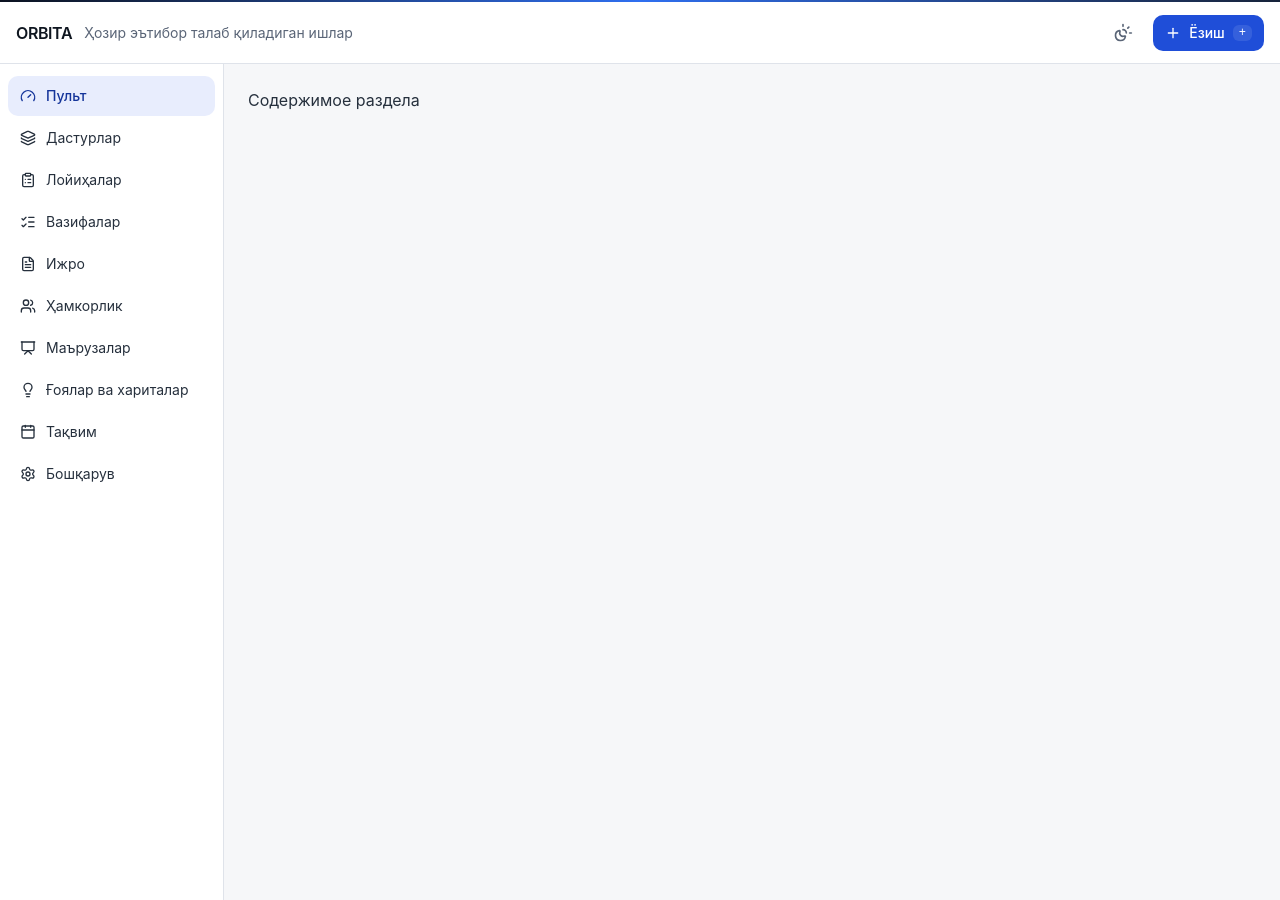
it: язык интерфейса › сохранение не прошло — язык возвращается к записанному на сервере, и это сказано
Click the button named "Мавзу:" at (1123, 32), box [1101, 10, 1145, 54]
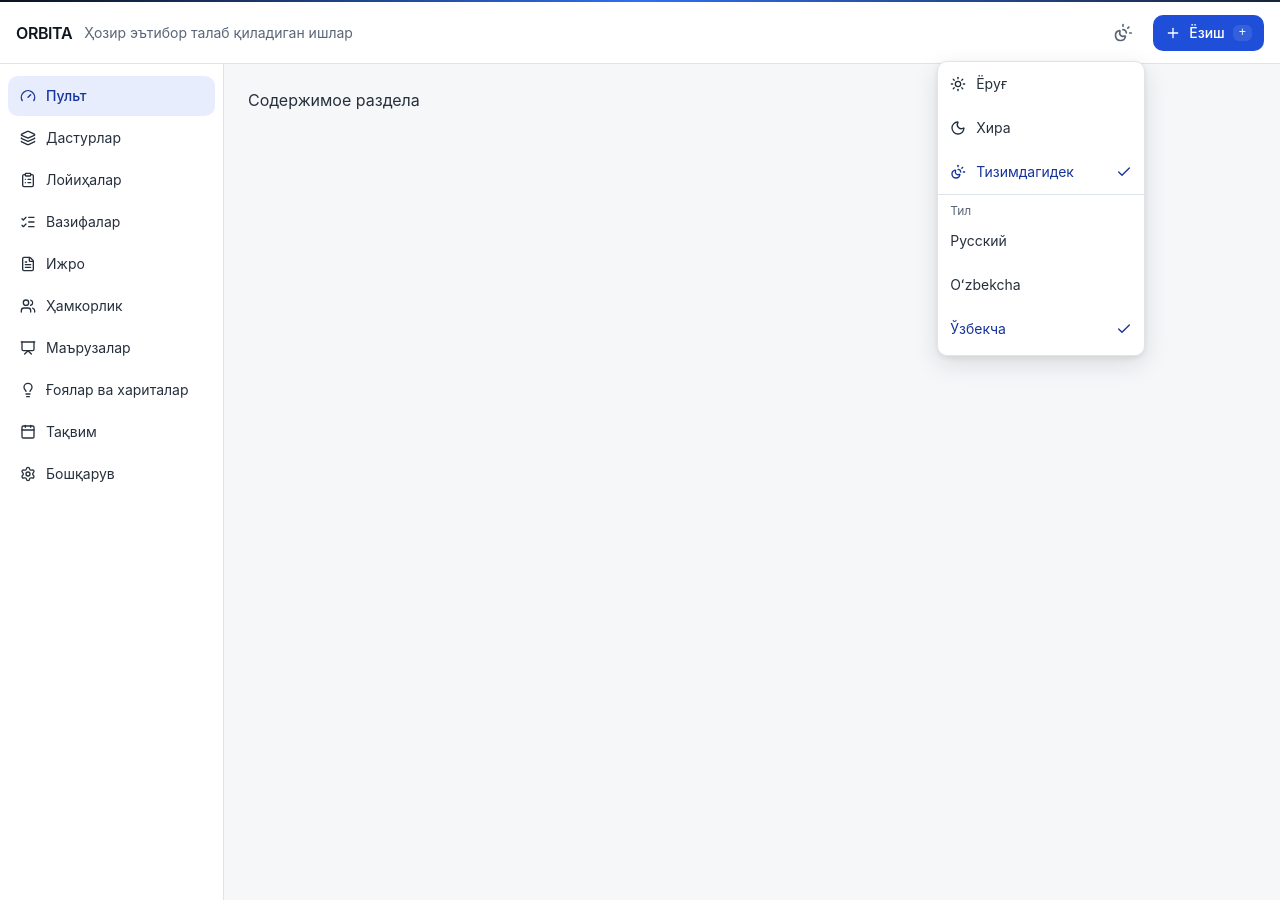
Click the menu item "Oʻzbekcha" at (1041, 284), box [938, 262, 1144, 306]
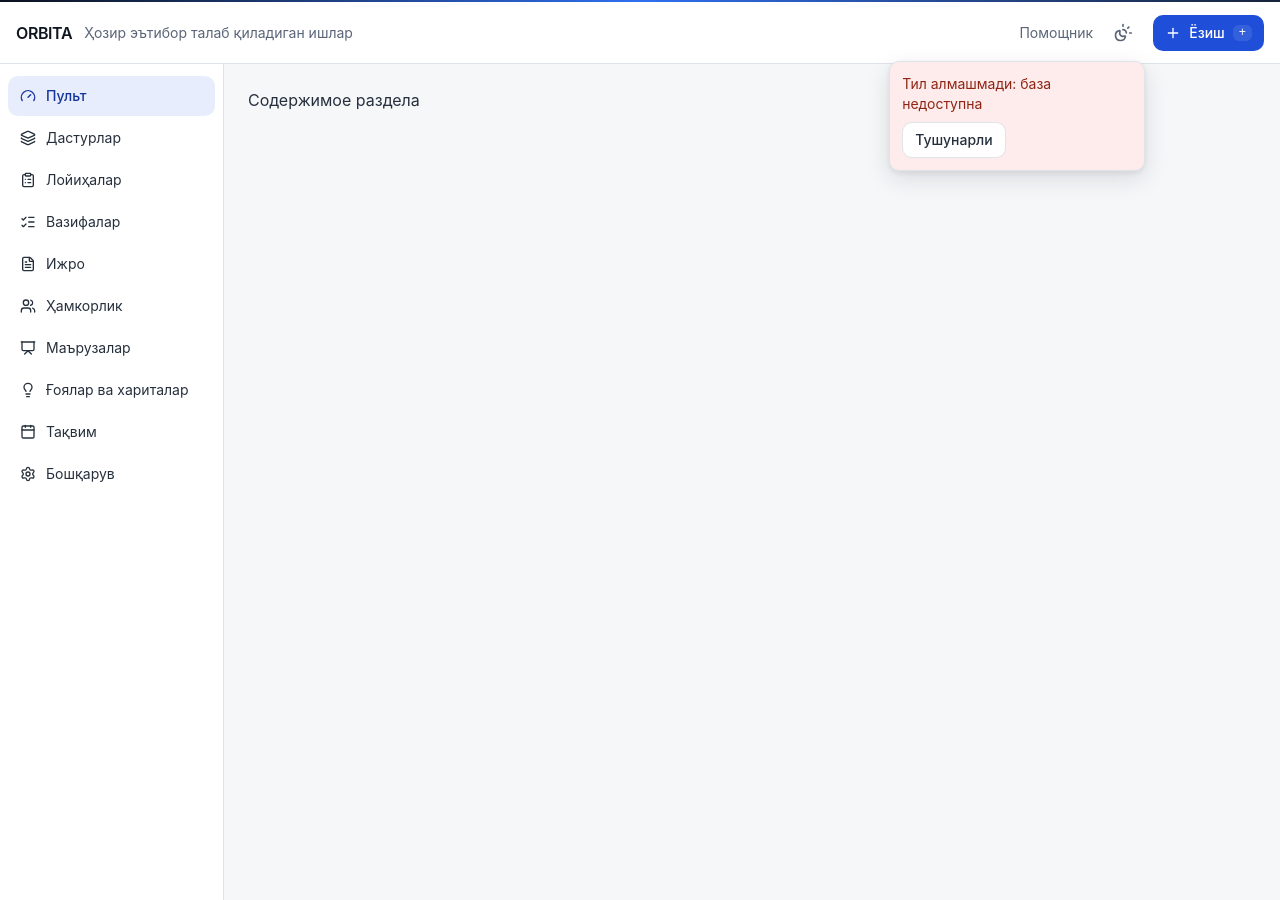
Check: the link "Лойиҳалар" is shown, box [20, 171, 122, 188]
Check: the message shows "Тил алмашмади: база недоступна", box [902, 74, 1051, 112]
Click the button "Тушунарли" at (954, 140), box [902, 122, 1006, 158]
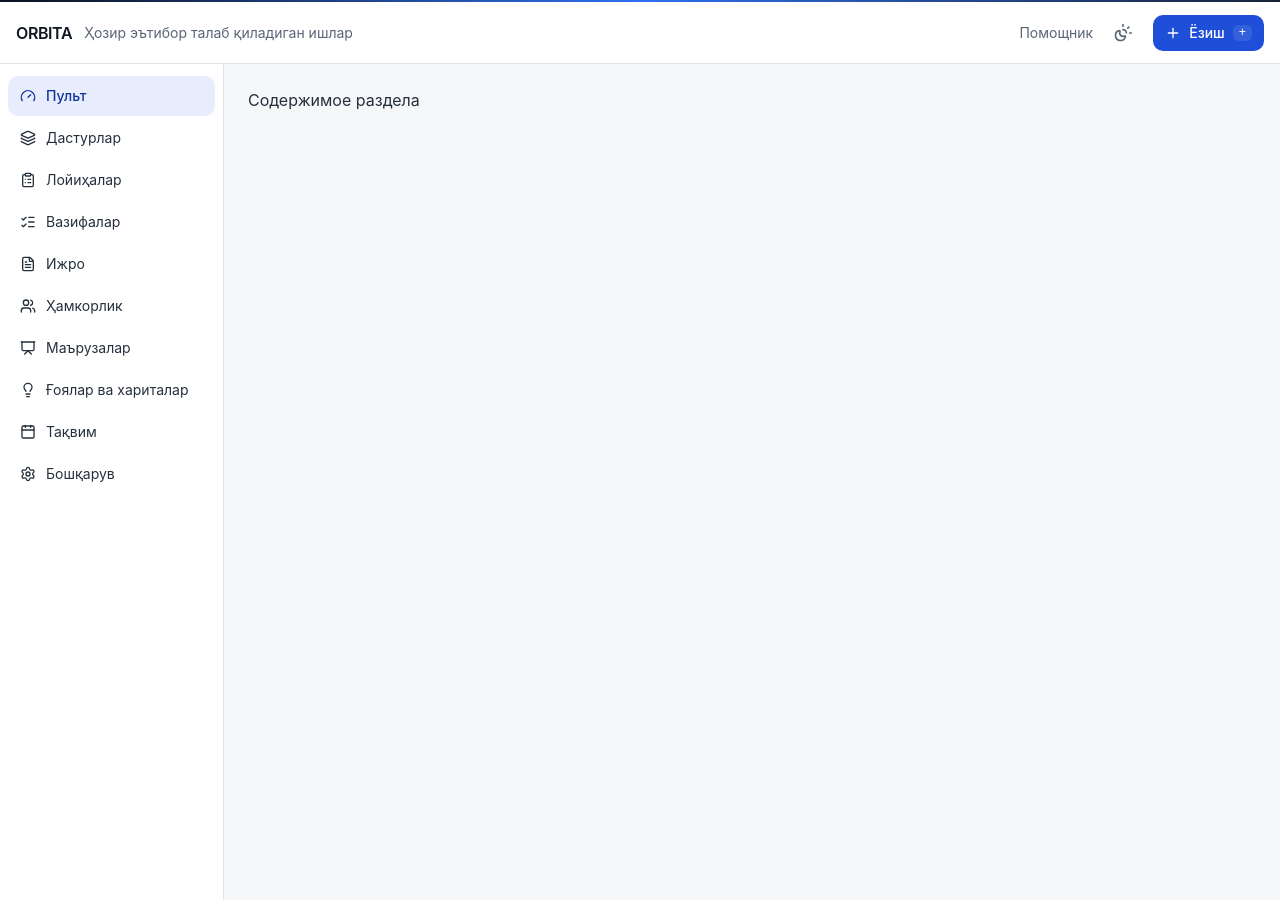
Check: the message "Тил алмашмади: база недоступна Тушунарли" is gone
